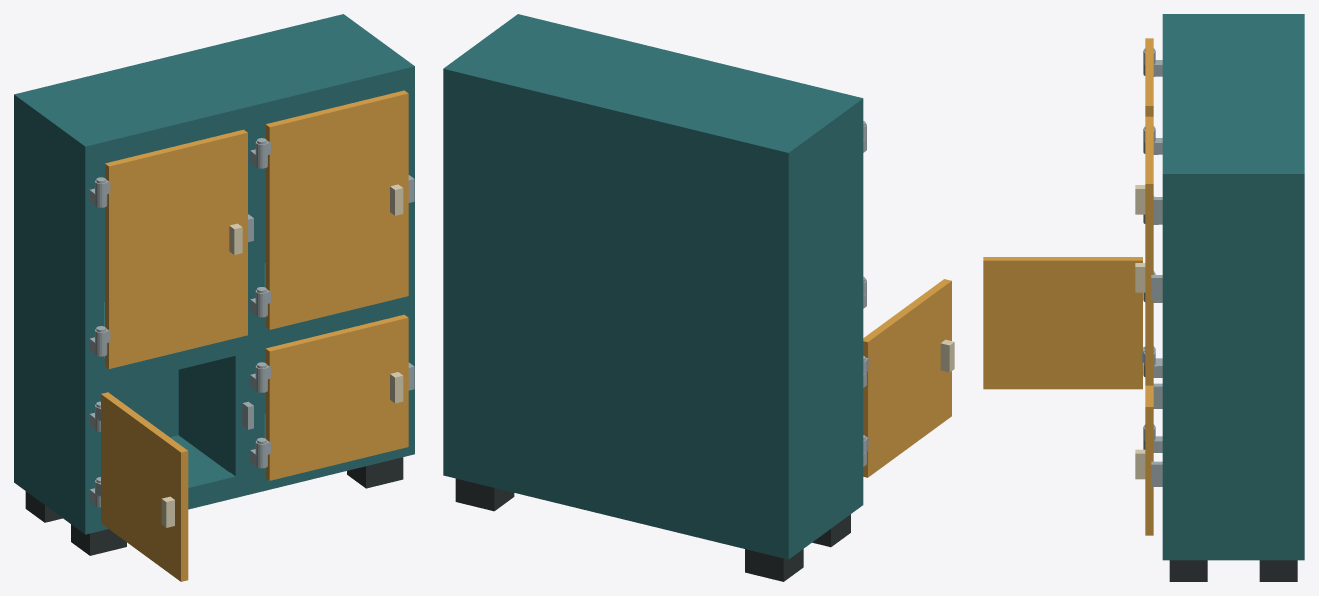
3 renders of one model, left to right at view 1: azimuth 30°, elevation 25°; view 2: azimuth 150°, elevation 25°; view 3: azimuth 270°, elevation 25°, orthographic. The views are drawn at different scales.
Visible parts, largest first — view 1: Cabinet_ThickIsolatedShell, Door_RightUpper, Door_LeftUpper, Door_RightLower, Door_LeftLower, Foot_FrontRight, Foot_FrontLeft, Foot_BackLeft; view 2: Cabinet_ThickIsolatedShell, Door_LeftLower, Foot_BackLeft, Foot_BackRight; view 3: Cabinet_ThickIsolatedShell, Door_LeftLower, Door_RightUpper, Door_RightLower, Foot_BackRight, Foot_FrontRight, Door_LeftUpper.
Boxes of the visible parts, x1,y1,x2,y2 form: Cabinet_ThickIsolatedShell: (14, 14, 414, 534); Door_RightUpper: (265, 90, 408, 329); Door_LeftUpper: (105, 129, 247, 368); Door_RightLower: (265, 314, 408, 480); Door_LeftLower: (101, 392, 188, 581); Foot_FrontRight: (347, 457, 403, 488); Foot_FrontLeft: (71, 524, 126, 555); Foot_BackLeft: (25, 491, 62, 522); Cabinet_ThickIsolatedShell: (443, 14, 863, 559); Door_LeftLower: (863, 279, 951, 477); Foot_BackLeft: (745, 549, 803, 581); Foot_BackRight: (455, 478, 514, 511); Cabinet_ThickIsolatedShell: (1162, 14, 1304, 560); Door_LeftLower: (983, 257, 1142, 389); Door_RightUpper: (1145, 116, 1153, 385); Door_RightLower: (1145, 385, 1153, 535); Foot_BackRight: (1259, 560, 1297, 581); Foot_FrontRight: (1169, 560, 1207, 581); Door_LeftUpper: (1145, 38, 1153, 116).
Bounding box in the file's own units: 1.62 × 1.92 × 1.36.
